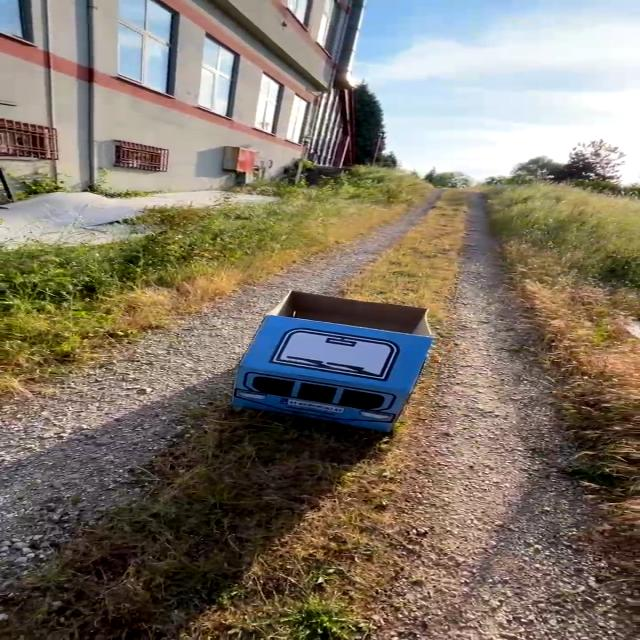blue_car: (188, 271, 448, 448)
